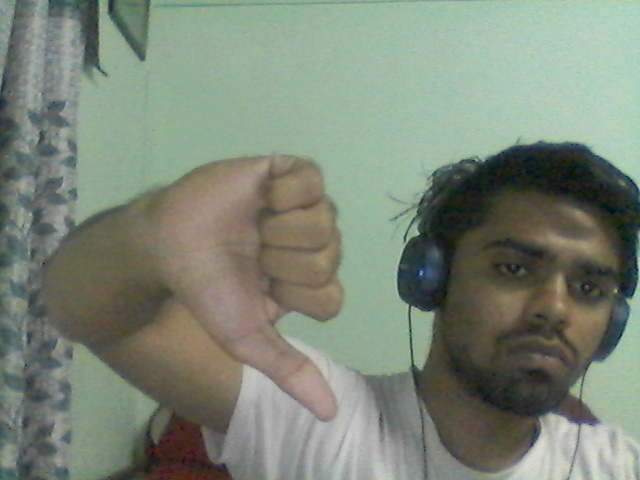No: (97, 99, 368, 437)
